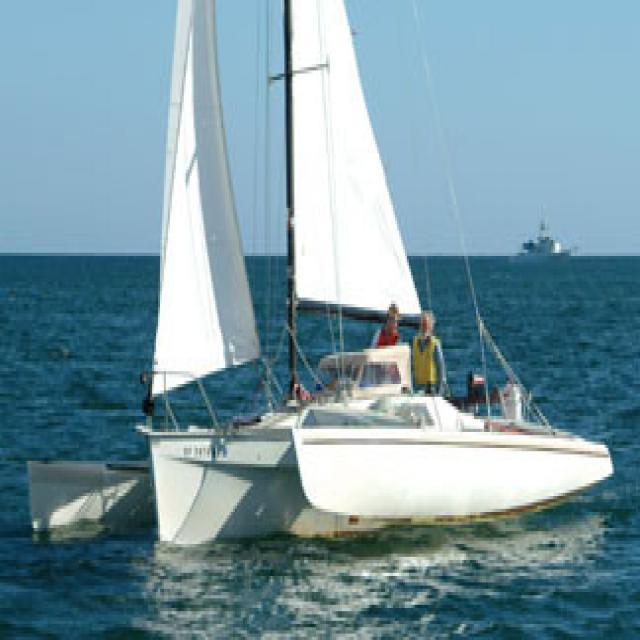Ship: (149, 1, 613, 545)
